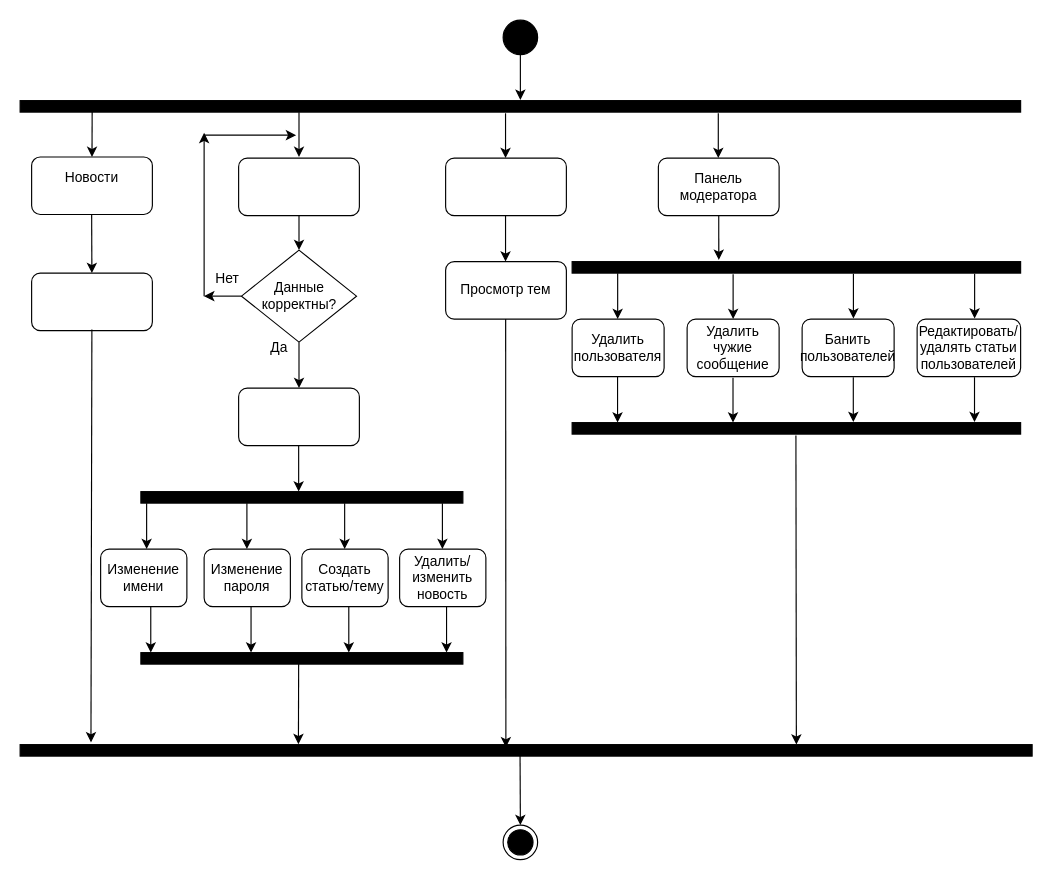
Image size: 1052x880. Some labels were removed from this diagram. The shapes that lost their labels are listed below. From the top down, each one's centre as x and y in pixels, then its label:
At point 298,186: "Авторизация".
At point 505,186: "Форум".
At point 91,301: "Просмотр новостей".
At point 298,416: "Личный кабинет".
